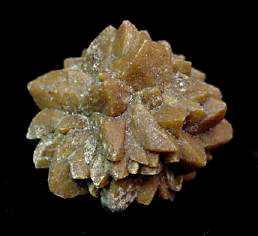calcite: (27, 21, 234, 212)
